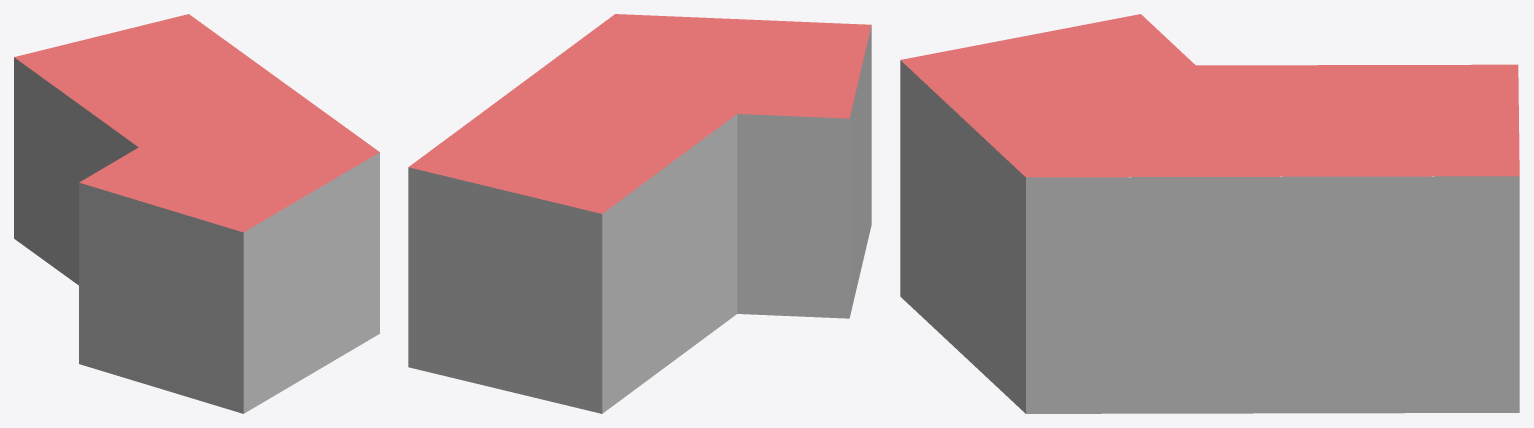
3 views of the same model, side by side, from view 1: azimuth 30°, elevation 25°; view 2: azimuth 150°, elevation 25°; view 3: azimuth 270°, elevation 25° (orthographic). The views are drawn at different scales.
Visible parts, largest first — view 1: Z_UP; view 2: Z_UP; view 3: Z_UP.
Part boxes in pixels (box(x1,y1,x2,y2)): Z_UP: box(14, 14, 379, 413); Z_UP: box(408, 14, 871, 413); Z_UP: box(900, 14, 1519, 413).
Bounding box in the file's own units: 19.04 × 12.85 × 30.5.
